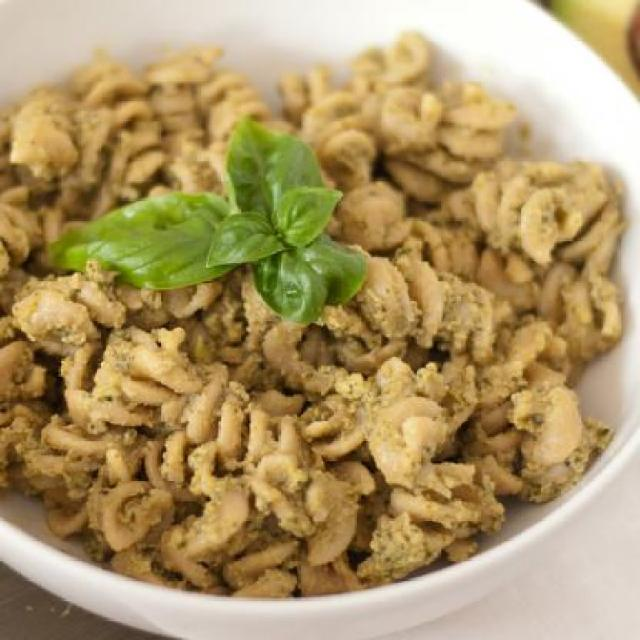Oil pasta: (15, 53, 553, 550)
